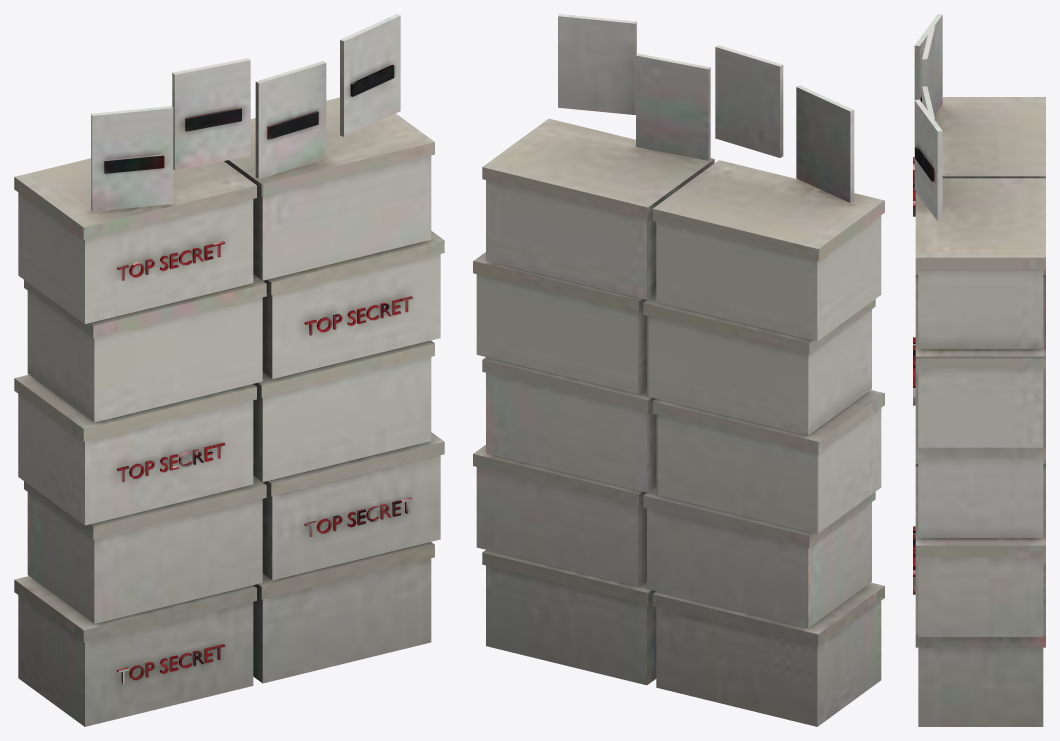
The model's file is torre_cajas.glb.
3 views of the same model, side by side, from view 1: azimuth 30°, elevation 25°; view 2: azimuth 150°, elevation 25°; view 3: azimuth 270°, elevation 25° (orthographic). The views are drawn at different scales.
Visible parts, largest first — view 1: torre_cajas; view 2: torre_cajas; view 3: torre_cajas.
Part boxes in pixels (x1,y1,x2,y2): torre_cajas: (14, 14, 444, 726); torre_cajas: (473, 14, 884, 726); torre_cajas: (913, 14, 1045, 726).
Size of the model in its own units: 1.5 by 2.48 by 0.51.
1 material, 1 textured.
